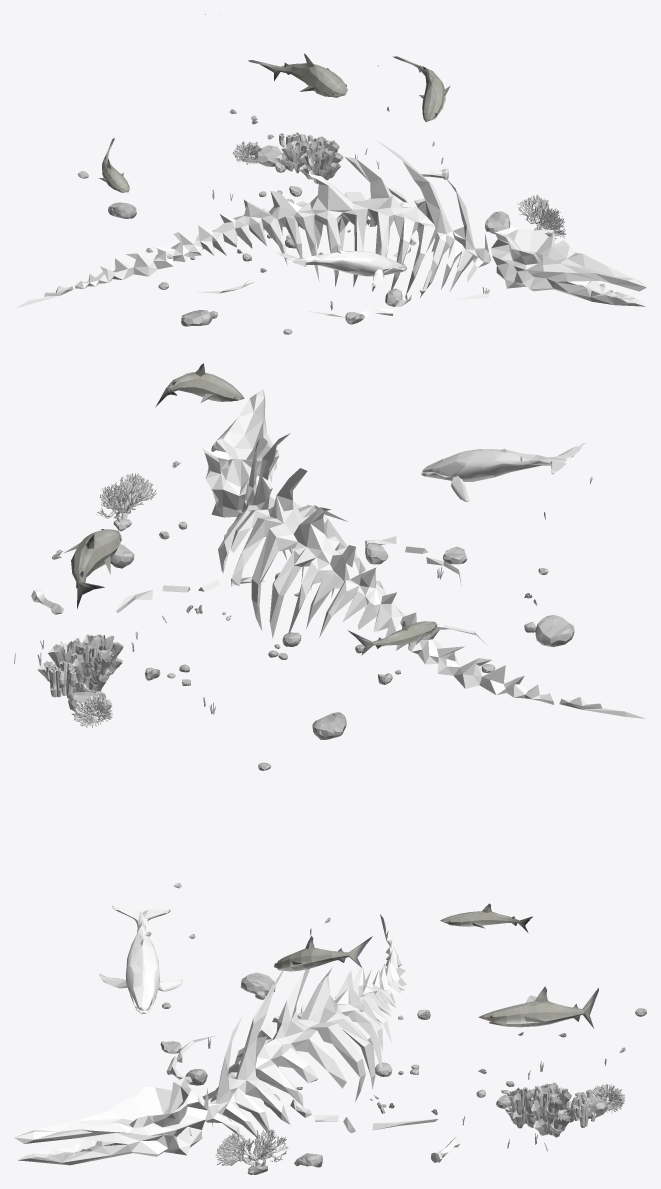
File: unity_03植物5.fbx
The picture shows the model from 3 angles, top to bottom: view 1: azimuth 30°, elevation 25°; view 2: azimuth 150°, elevation 25°; view 3: azimuth 270°, elevation 25°; orthographic projection. The views are drawn at different scales.
Visible parts, largest first — view 1: Obj3d66_17437239_2_577_2.001, 180.001, Blue_whale_0.002, 142.003, Coral Cabbage.005, coral fan1.004, 142.002, Coral Cabbage.006, 142.006, dome coral.002; view 2: Obj3d66_17437239_2_577_2.001, 180.001, Blue_whale_0.002, Coral Cabbage.005, 142.003, coral fan1.004, 142.002, 142.006, dome coral.002, 292.011, Coral Cabbage.006; view 3: Obj3d66_17437239_2_577_2.001, Blue_whale_0.002, 180.001, 142.003, coral fan1.004, Coral Cabbage.005, 142.002, Coral Cabbage.006, 142.006, 292.011, dome coral.002.
Part boxes in pixels (bbox=[...]): Obj3d66_17437239_2_577_2.001: bbox=[15, 140, 646, 317]; 180.001: bbox=[77, 145, 510, 334]; Blue_whale_0.002: bbox=[275, 250, 404, 286]; 142.003: bbox=[248, 53, 347, 97]; Coral Cabbage.005: bbox=[281, 136, 339, 174]; coral fan1.004: bbox=[517, 194, 566, 239]; 142.002: bbox=[393, 56, 450, 121]; Coral Cabbage.006: bbox=[275, 151, 343, 183]; 142.006: bbox=[99, 138, 129, 192]; dome coral.002: bbox=[232, 141, 264, 164]; Obj3d66_17437239_2_577_2.001: bbox=[116, 389, 645, 718]; 180.001: bbox=[68, 521, 574, 770]; Blue_whale_0.002: bbox=[421, 443, 585, 501]; Coral Cabbage.005: bbox=[48, 634, 123, 681]; 142.003: bbox=[64, 529, 121, 608]; coral fan1.004: bbox=[95, 473, 156, 521]; 142.002: bbox=[155, 363, 244, 406]; 142.006: bbox=[347, 621, 437, 655]; dome coral.002: bbox=[71, 694, 112, 727]; 292.011: bbox=[46, 661, 76, 698]; Coral Cabbage.006: bbox=[37, 658, 122, 693]; Obj3d66_17437239_2_577_2.001: bbox=[14, 914, 437, 1165]; Blue_whale_0.002: bbox=[99, 906, 182, 1014]; 180.001: bbox=[160, 972, 646, 1167]; 142.003: bbox=[478, 986, 598, 1028]; coral fan1.004: bbox=[215, 1129, 289, 1166]; Coral Cabbage.005: bbox=[506, 1082, 571, 1123]; 142.002: bbox=[274, 936, 372, 971]; Coral Cabbage.006: bbox=[505, 1101, 577, 1137]; 142.006: bbox=[440, 903, 532, 932]; 292.011: bbox=[571, 1089, 596, 1127]; dome coral.002: bbox=[592, 1083, 625, 1112].
Size of the model in its own units: 58.91 by 27.84 by 59.96.
